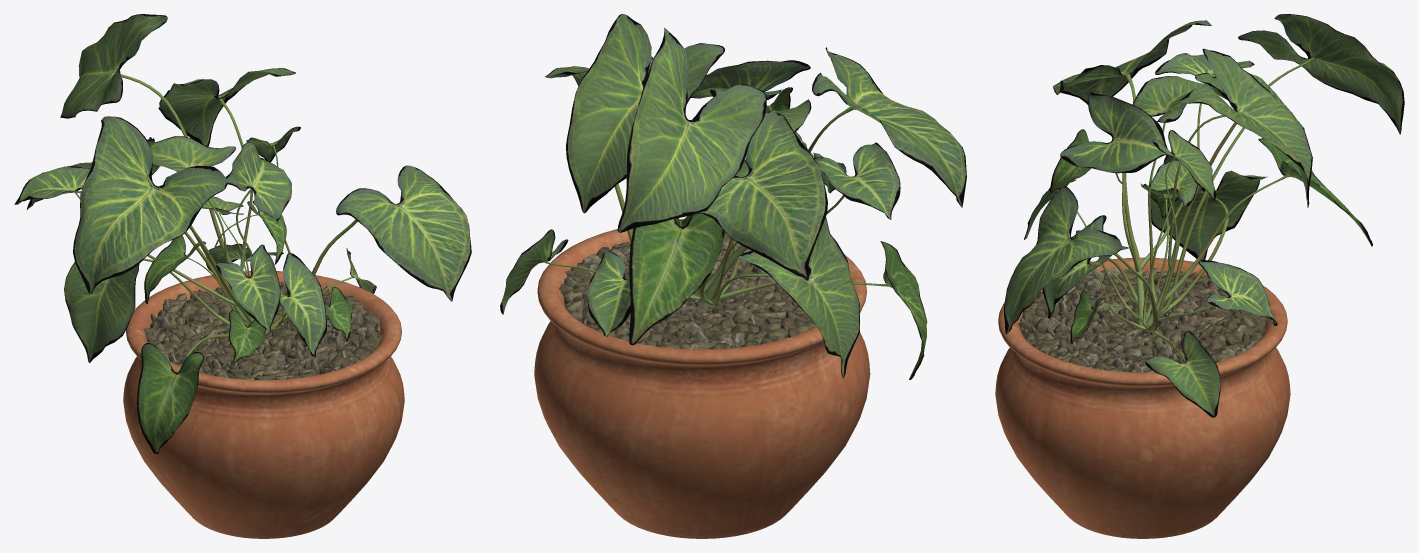
The model's file is potted_plant_02.glb.
3 views of the same model, side by side, from view 1: azimuth 30°, elevation 25°; view 2: azimuth 150°, elevation 25°; view 3: azimuth 270°, elevation 25° (orthographic). The views are drawn at different scales.
Parts seen in each view (by area): view 1: potted_plant_02_leaves, potted_plant_02_pot; view 2: potted_plant_02_leaves, potted_plant_02_pot; view 3: potted_plant_02_pot, potted_plant_02_leaves.
Boxes of the visible parts, bbox=[...] form: potted_plant_02_leaves: bbox=[14, 14, 471, 454]; potted_plant_02_pot: bbox=[123, 271, 404, 538]; potted_plant_02_leaves: bbox=[500, 14, 966, 379]; potted_plant_02_pot: bbox=[534, 219, 870, 538]; potted_plant_02_pot: bbox=[995, 257, 1290, 538]; potted_plant_02_leaves: bbox=[1004, 14, 1404, 417].
Size of the model in its own units: 0.7012 by 0.8412 by 0.6574.
2 materials, 2 textured.
